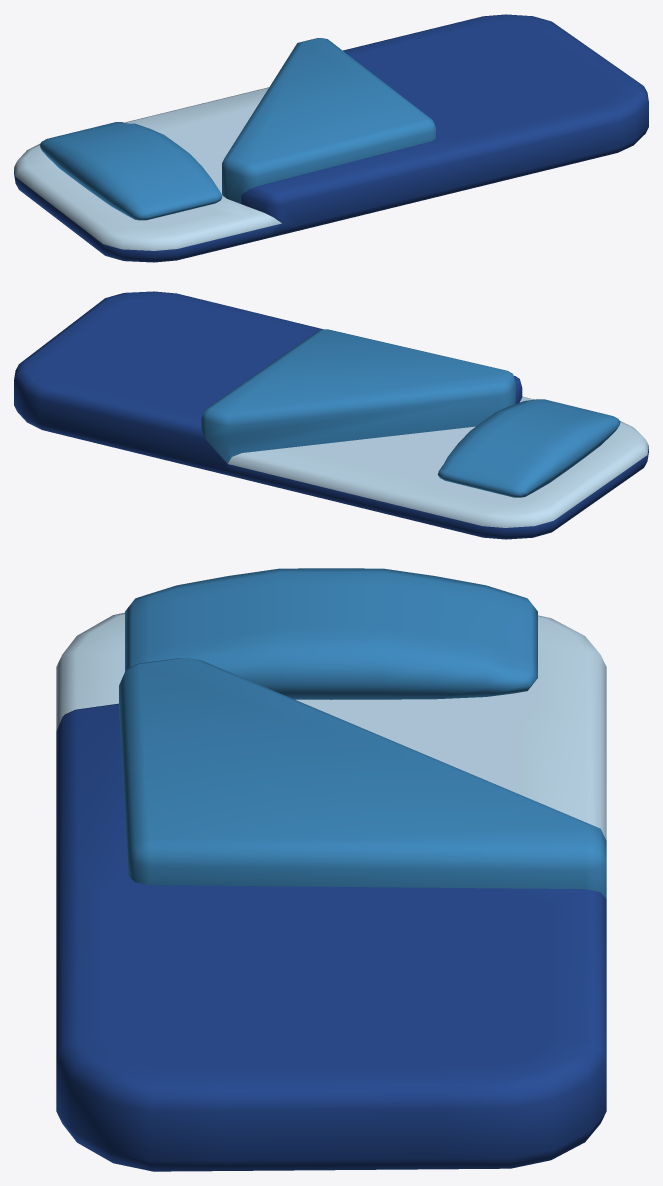
Rendered from bedroll-1.fbx.
3 renders of one model, top to bottom at view 1: azimuth 30°, elevation 25°; view 2: azimuth 150°, elevation 25°; view 3: azimuth 270°, elevation 25°, orthographic. The views are drawn at different scales.
Parts seen in each view (by area): view 1: Grid, Grid.001, Grid.003, Pillow; view 2: Grid, Grid.001, Grid.003, Pillow; view 3: Grid, Grid.001, Pillow, Grid.003.
Boxes of the visible parts, bbox=[...] form: Grid: bbox=[241, 14, 648, 237]; Grid.001: bbox=[222, 38, 435, 206]; Grid.003: bbox=[14, 87, 281, 262]; Pillow: bbox=[39, 122, 222, 220]; Grid: bbox=[14, 291, 522, 475]; Grid.001: bbox=[201, 329, 516, 463]; Grid.003: bbox=[228, 396, 648, 539]; Pillow: bbox=[437, 399, 620, 497]; Grid: bbox=[56, 703, 606, 1171]; Grid.001: bbox=[119, 657, 606, 898]; Pillow: bbox=[125, 568, 537, 699]; Grid.003: bbox=[56, 612, 606, 840].
Size of the model in its own units: 183 by 20 by 80.
